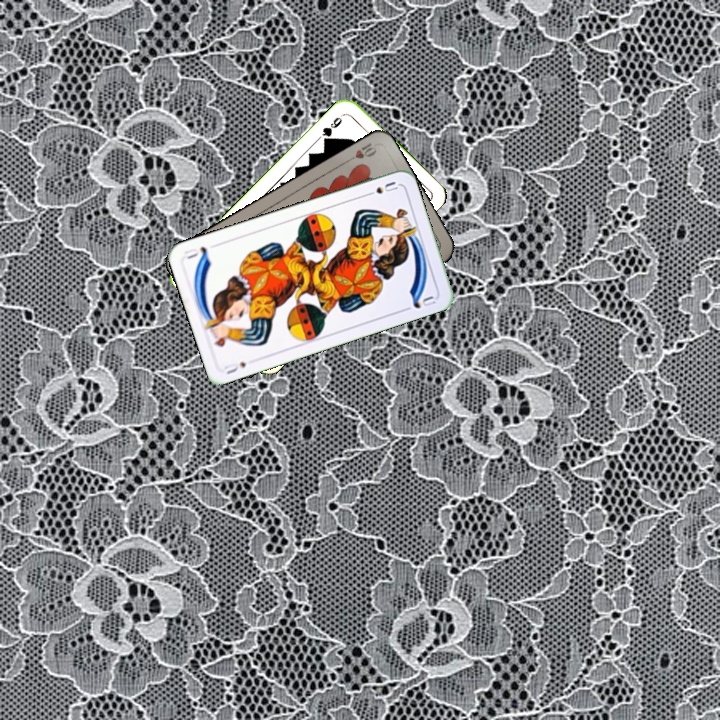G9: (318, 110, 347, 146)
H10: (341, 138, 379, 166)
SU: (361, 177, 400, 199), (220, 358, 249, 377)
